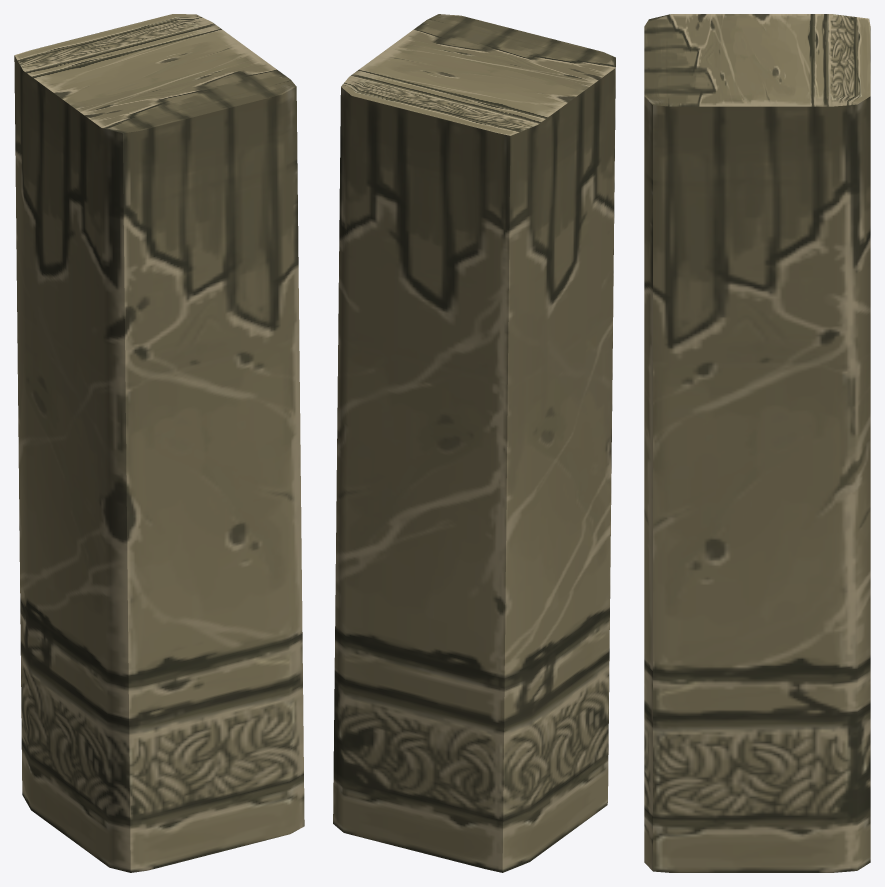
The model's file is small pillar.fbx.
3 views of the same model, side by side, from view 1: azimuth 30°, elevation 25°; view 2: azimuth 150°, elevation 25°; view 3: azimuth 270°, elevation 25° (orthographic). The views are drawn at different scales.
Visible parts, largest first — view 1: pCube11; view 2: pCube11; view 3: pCube11.
Boxes of the visible parts, <box> form: pCube11: <box>14,14,304,872</box>; pCube11: <box>333,14,615,872</box>; pCube11: <box>644,14,870,872</box>.
Bounding box in the file's own units: 14.56 × 52.47 × 14.06.
